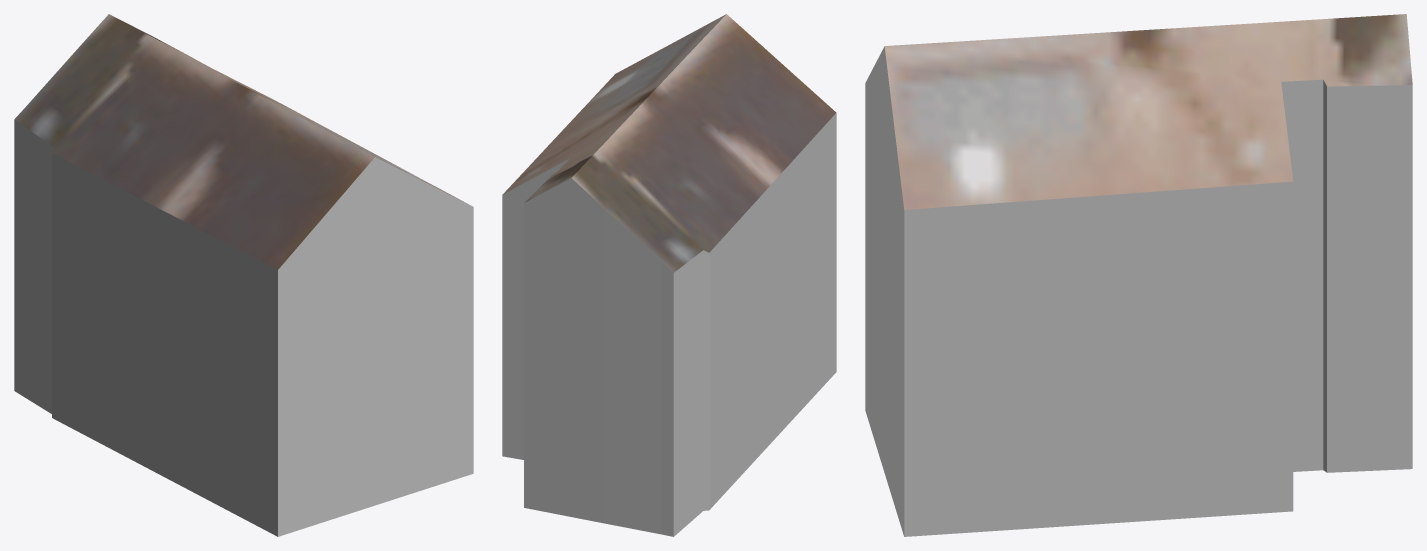
Rendered from DEBW_0010007Tx8Y.gltf.
3 renders of one model, left to right at view 1: azimuth 30°, elevation 25°; view 2: azimuth 150°, elevation 25°; view 3: azimuth 270°, elevation 25°, orthographic. The views are drawn at different scales.
Visible parts, largest first — view 1: Z_UP; view 2: Z_UP; view 3: Z_UP.
Boxes of the visible parts, <box> form: Z_UP: <box>14,14,473,536</box>; Z_UP: <box>502,14,836,536</box>; Z_UP: <box>865,14,1412,536</box>.
Bounding box in the file's own units: 9.06 × 11.62 × 13.49.
2 materials, 1 textured.
